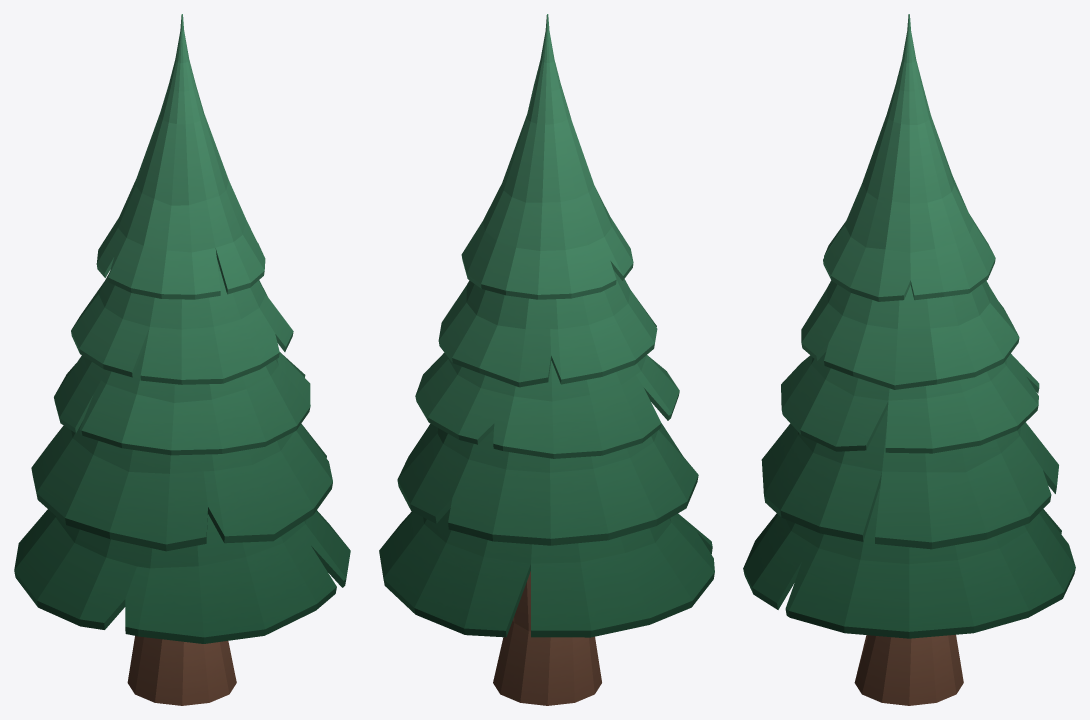
Rendered from drzewo3.fbx.
3 renders of one model, left to right at view 1: azimuth 30°, elevation 25°; view 2: azimuth 150°, elevation 25°; view 3: azimuth 270°, elevation 25°, orthographic.
Visible parts, largest first — view 1: Circle.012; view 2: Circle.012; view 3: Circle.012.
Part boxes in pixels (x1,y1,x2,y2): Circle.012: (14,14,350,705); Circle.012: (379,14,714,705); Circle.012: (743,14,1075,705).
Bounding box in the file's own units: 247 × 540 × 243.
